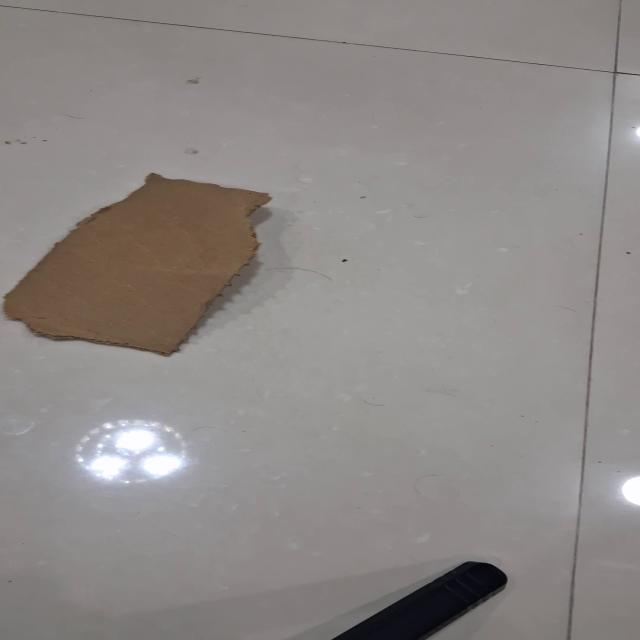paper: (1, 172, 272, 358)
